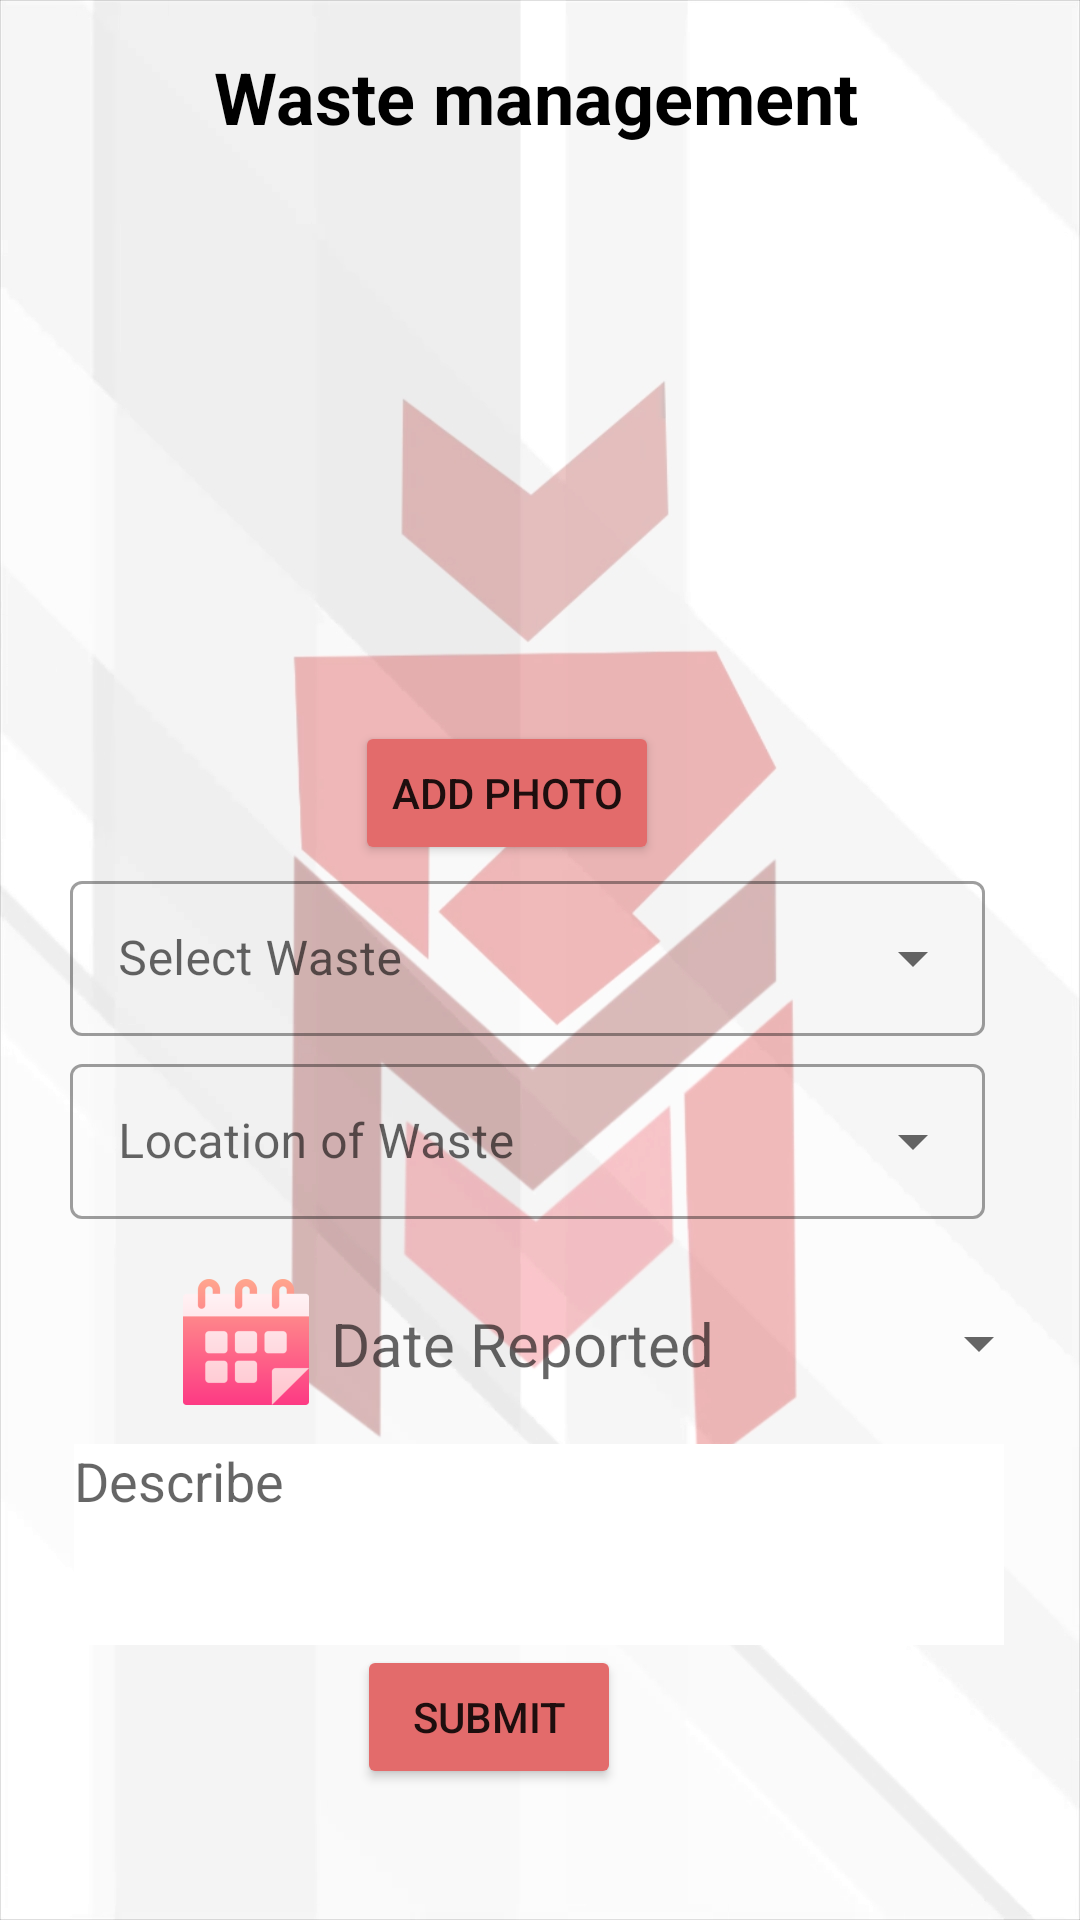

Locate icon controls on the screen. Image size 1080 × 1920, boxes as (x1, y1, x2, y2).
calendar: (183, 1279, 324, 1405)
